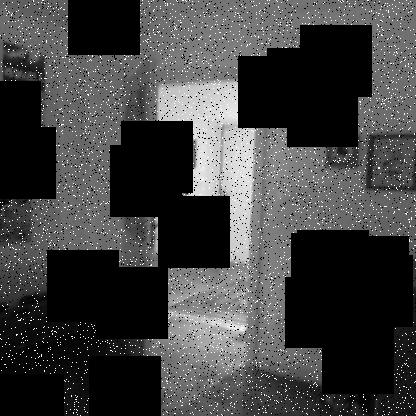Porte: (121, 53, 271, 395)
